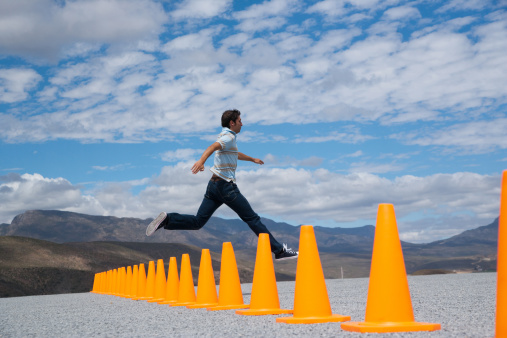trafficcone: (340, 203, 441, 333), (275, 225, 351, 323), (236, 233, 294, 315), (207, 241, 250, 311), (494, 170, 506, 337), (186, 249, 218, 308), (169, 253, 197, 307), (159, 256, 179, 304)
